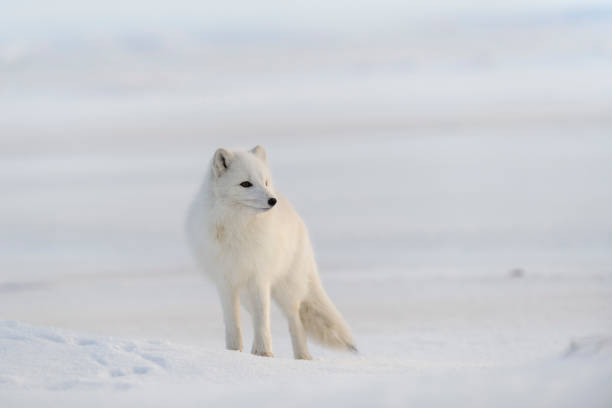arcticfox: (215, 154, 282, 222)
